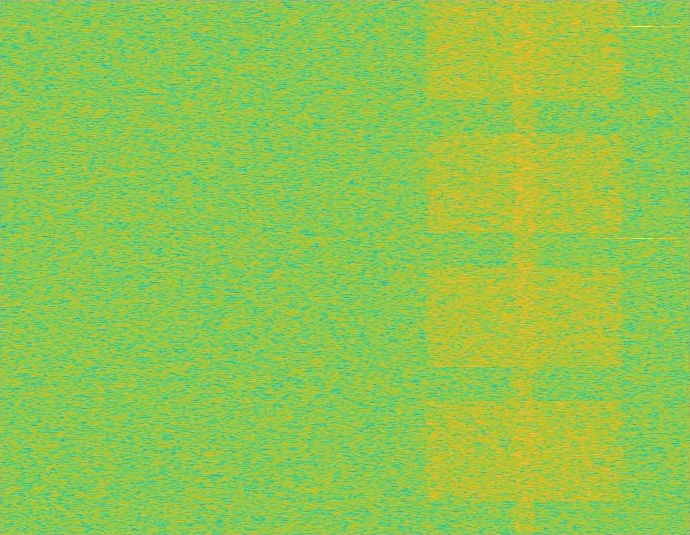5G: (421, 0, 628, 534)
DSSS: (510, 0, 538, 534)
Radar: (635, 0, 649, 534)
